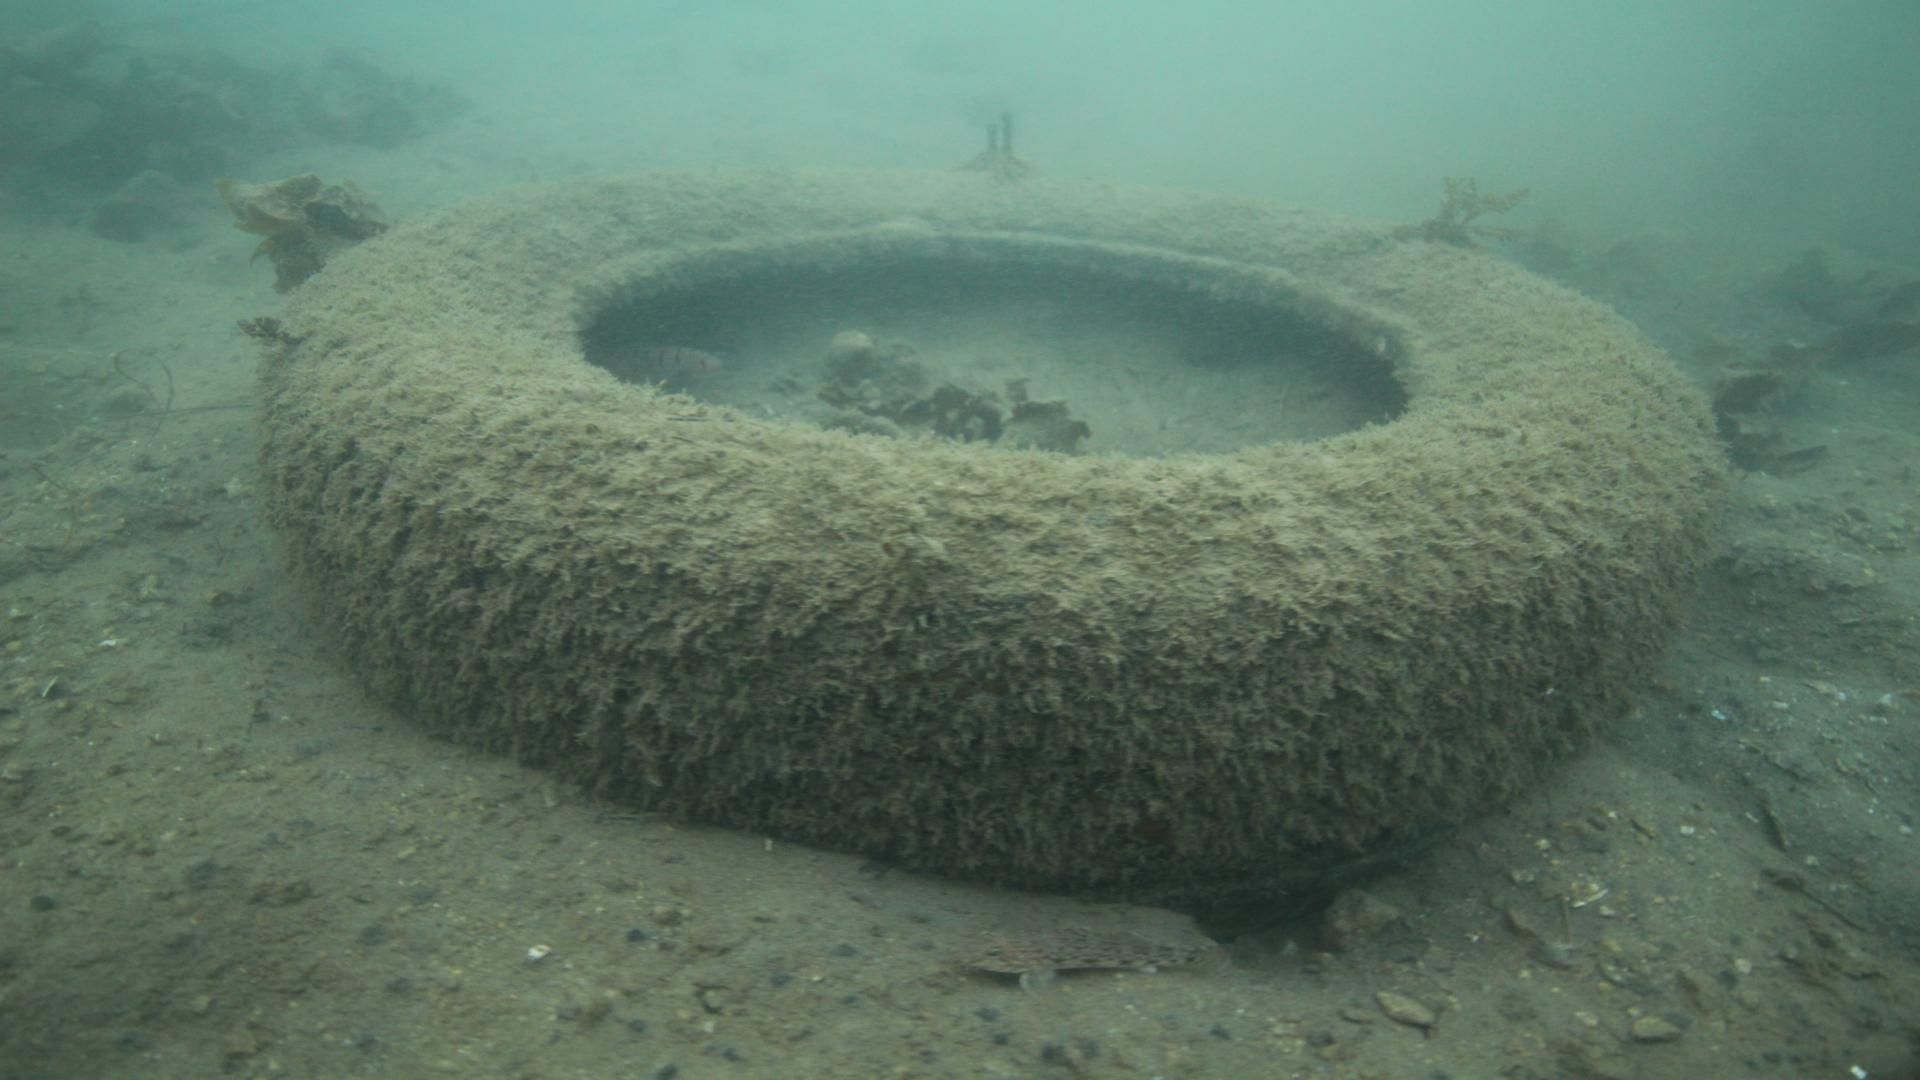tire: (257, 164, 1716, 899)
